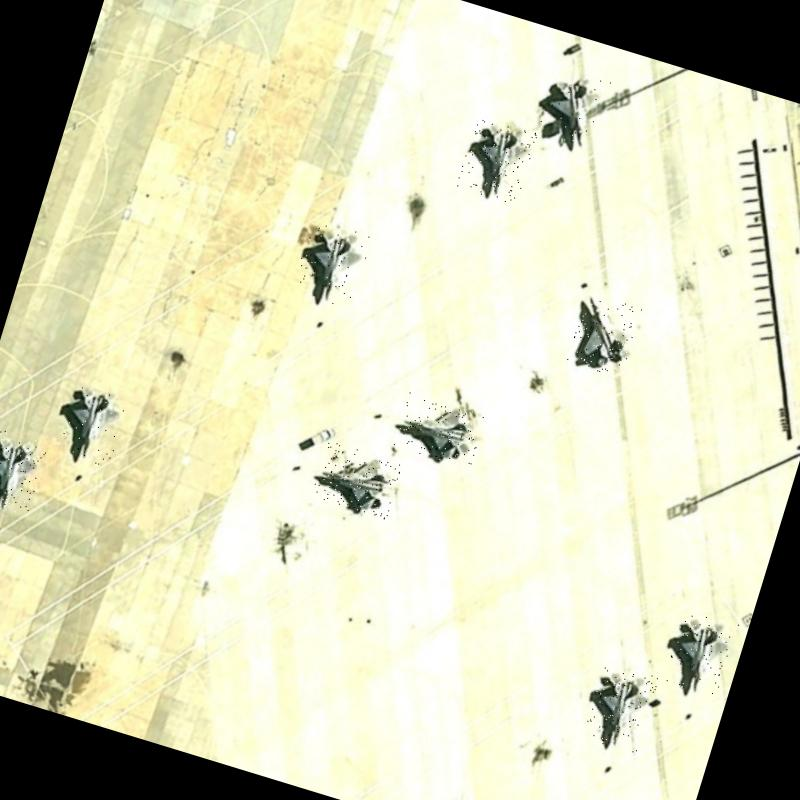A15: (291, 217, 373, 310), (310, 440, 404, 520), (456, 116, 538, 206), (394, 391, 486, 469), (661, 608, 739, 700), (582, 662, 659, 754), (53, 379, 132, 468), (536, 64, 613, 154), (566, 291, 644, 379), (0, 428, 49, 517)
